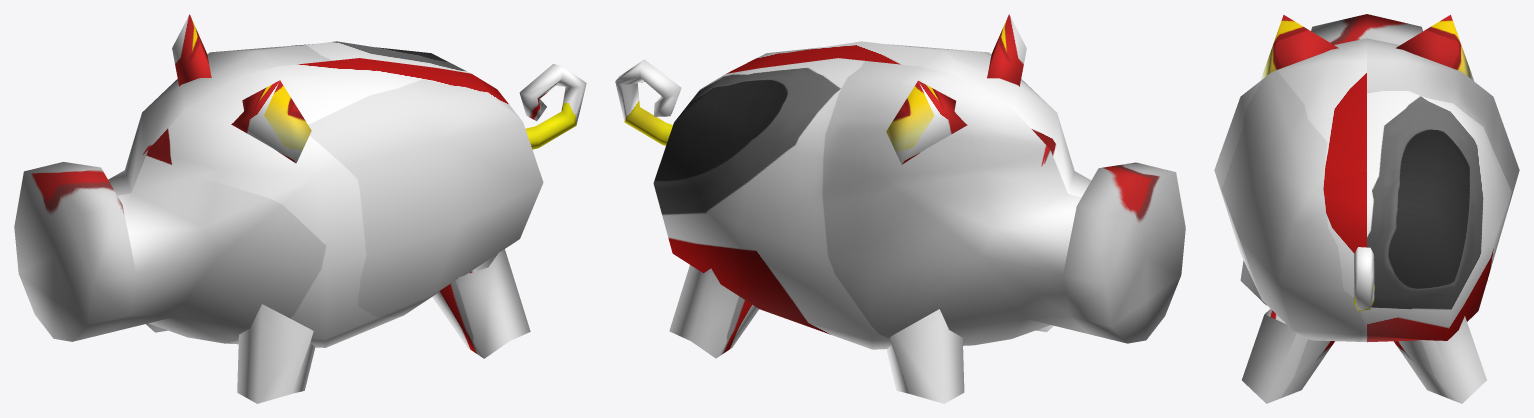
Rendered from Kopilka.fbx.
The picture shows the model from 3 angles, left to right: view 1: azimuth 30°, elevation 25°; view 2: azimuth 150°, elevation 25°; view 3: azimuth 270°, elevation 25°; orthographic projection. The views are drawn at different scales.
Parts seen in each view (by area): view 1: Kapilka; view 2: Kapilka; view 3: Kapilka.
Boxes of the visible parts, bbox=[...] form: Kapilka: bbox=[14, 14, 586, 403]; Kapilka: bbox=[615, 14, 1185, 403]; Kapilka: bbox=[1214, 14, 1519, 403].
Size of the model in its own units: 13.32 by 7.61 by 7.22.
